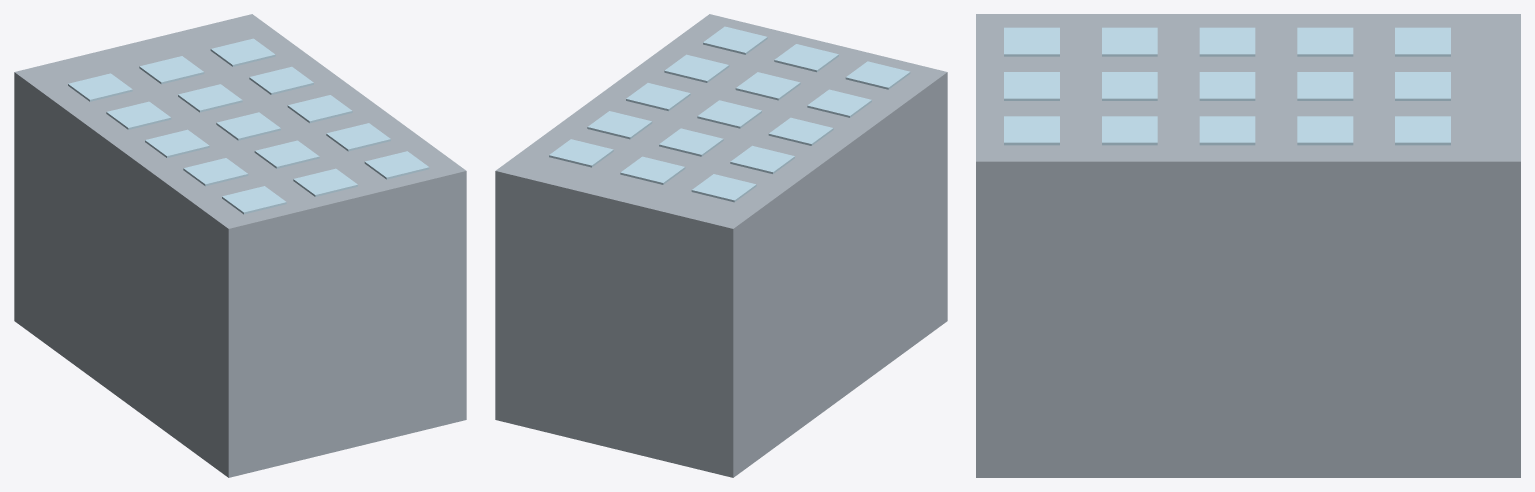
File: mid_building_exterior.glb
The picture shows the model from 3 angles, left to right: view 1: azimuth 30°, elevation 25°; view 2: azimuth 150°, elevation 25°; view 3: azimuth 270°, elevation 25°; orthographic projection. The views are drawn at different scales.
Parts seen in each view (by area): view 1: mass_0, window_3, window_4, window_10, window_11, window_2, window_5, window_8, window_9, window_12, window_15, window_1 (+4 smaller); view 2: mass_0, window_1, window_2, window_11, window_7, window_12, window_6, window_13, window_3, window_4, window_5, window_8 (+4 smaller); view 3: mass_0, window_4, window_6, window_7, window_9, window_1, window_3, window_10, window_12, window_13, window_15, window_5 (+4 smaller).
Boxes of the visible parts, x1,y1,x2,y2 form: mass_0: (14,14,466,477); window_3: (210,38,275,66); window_4: (106,101,171,129); window_10: (183,158,248,186); window_11: (254,140,319,168); window_2: (139,56,204,84); window_5: (178,84,242,112); window_8: (216,112,280,140); window_9: (287,95,352,123); window_12: (326,123,390,151); window_15: (364,151,429,179); window_1: (68,73,132,101); mass_0: (495,14,947,477); window_1: (691,174,756,202); window_2: (620,156,685,184); window_11: (735,72,800,100); window_7: (768,117,833,145); window_12: (664,54,729,82); window_6: (587,111,652,139); window_13: (845,61,910,89); window_3: (549,139,613,167); window_4: (730,145,794,173); window_5: (659,128,723,156); window_8: (697,100,761,128); mass_0: (976,14,1520,477); window_4: (1297,27,1353,56); window_6: (1297,116,1353,145); window_7: (1199,27,1255,56); window_9: (1199,116,1255,145); window_1: (1395,27,1450,56); window_3: (1395,116,1450,145); window_10: (1102,27,1157,56); window_12: (1102,116,1157,145); window_13: (1004,27,1059,56); window_15: (1004,116,1059,145); window_5: (1297,72,1353,100).
Size of the model in its own units: 5 by 5.04 by 7.8.
